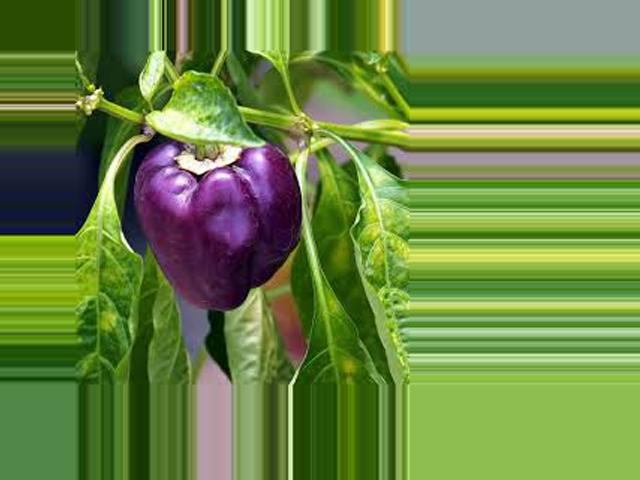bell_pepper: (134, 118, 305, 317)
